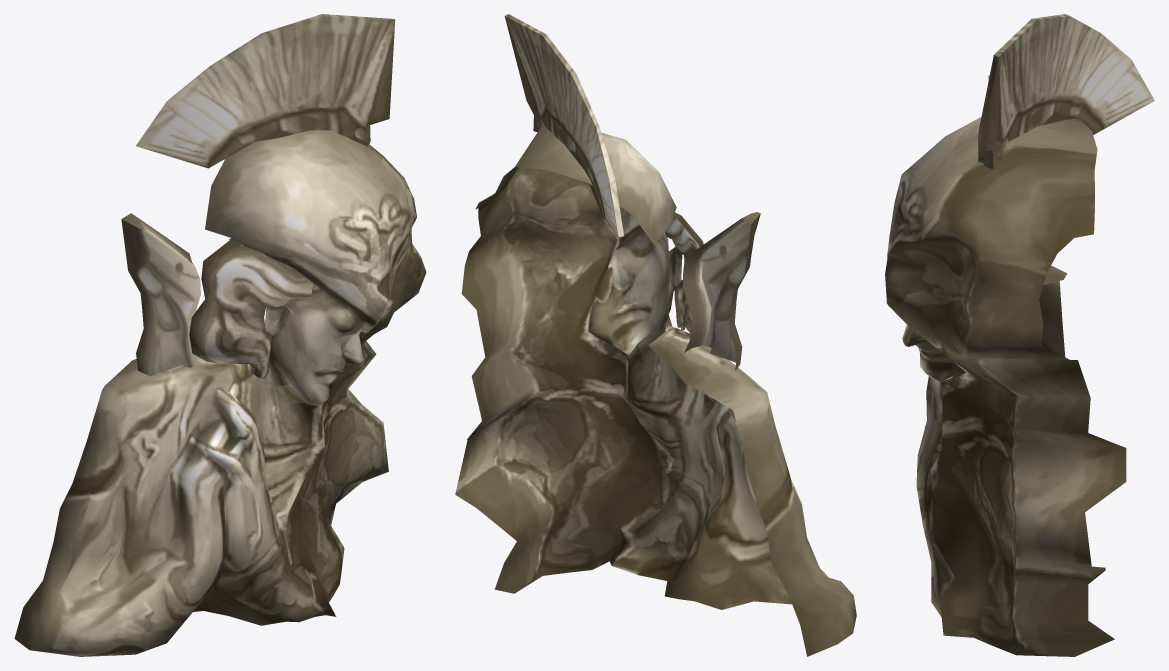
The model's file is SM_Plains_zujian02.FBX.
The picture shows the model from 3 angles, left to right: view 1: azimuth 30°, elevation 25°; view 2: azimuth 150°, elevation 25°; view 3: azimuth 270°, elevation 25°; orthographic projection. The views are drawn at different scales.
Parts seen in each view (by area): view 1: SM_Plains_zujian02; view 2: SM_Plains_zujian02; view 3: SM_Plains_zujian02.
Boxes of the visible parts, box(x1,y1,x2,y2) form: SM_Plains_zujian02: box(14, 14, 426, 656); SM_Plains_zujian02: box(455, 14, 856, 656); SM_Plains_zujian02: box(885, 14, 1154, 656).
Size of the model in its own units: 293 by 412 by 160.
